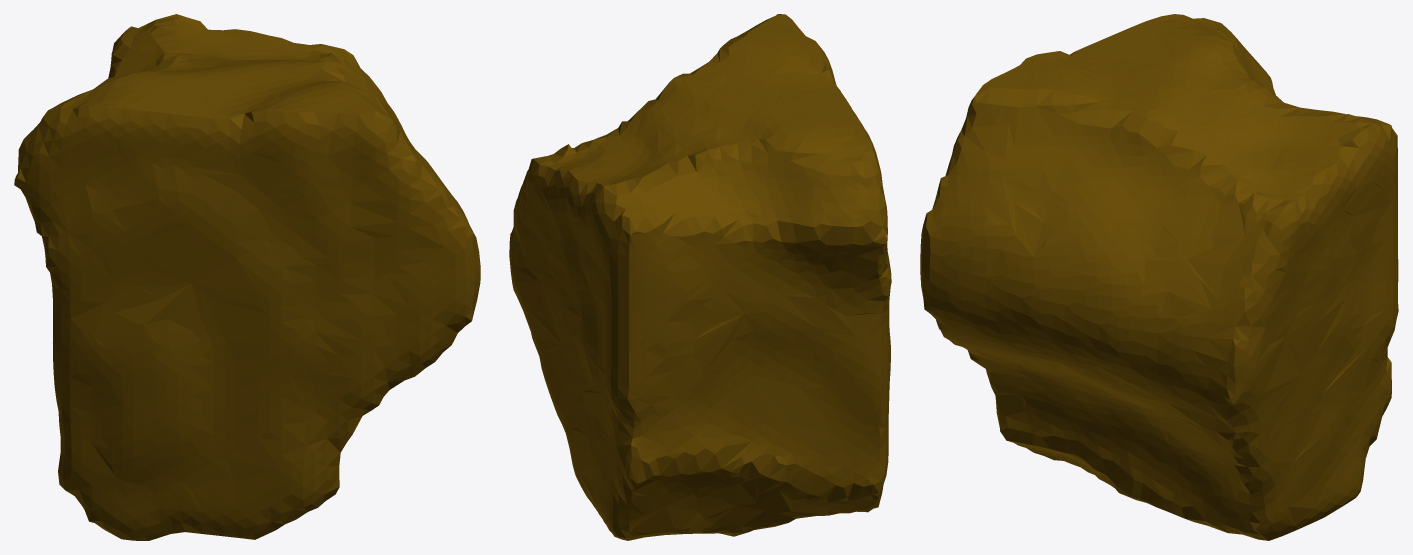
File: Model_10100_LH__Occipito-parietal_transitional_area_of_cortex_(OPt).obj
3 views of the same model, side by side, from view 1: azimuth 30°, elevation 25°; view 2: azimuth 150°, elevation 25°; view 3: azimuth 270°, elevation 25° (orthographic). The views are drawn at different scales.
Bounding box in the file's own units: 2.91 × 3.11 × 3.05.
